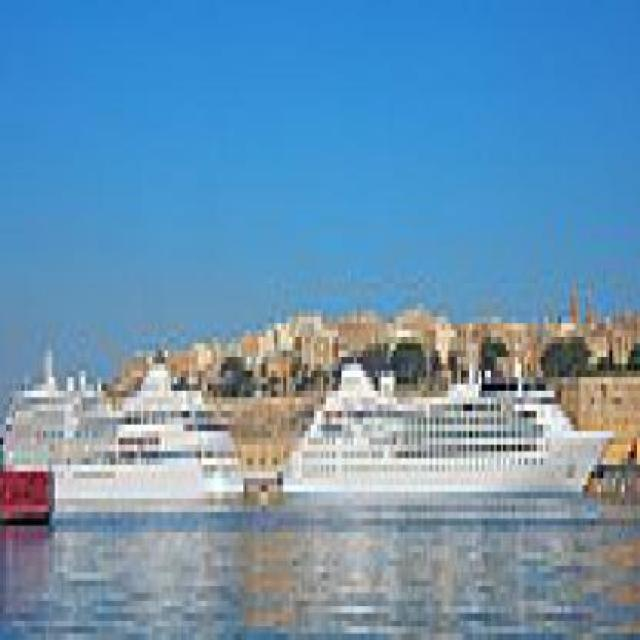cruise: (290, 338, 626, 527)
